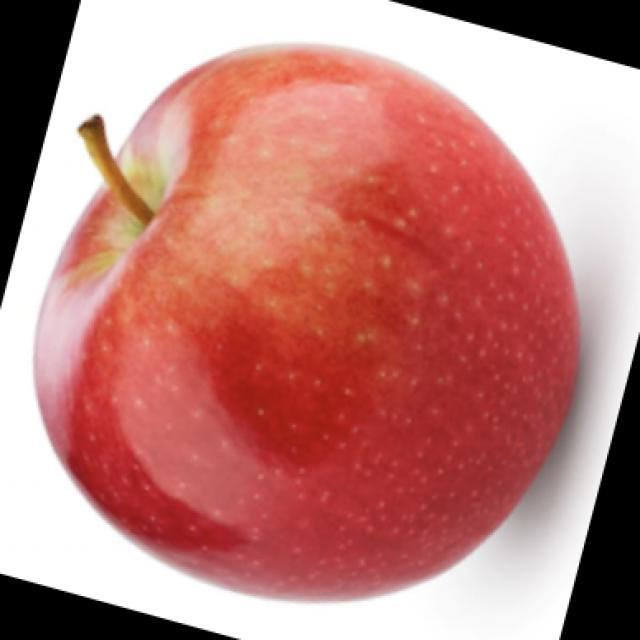Fresh Apple: (48, 46, 585, 596)
